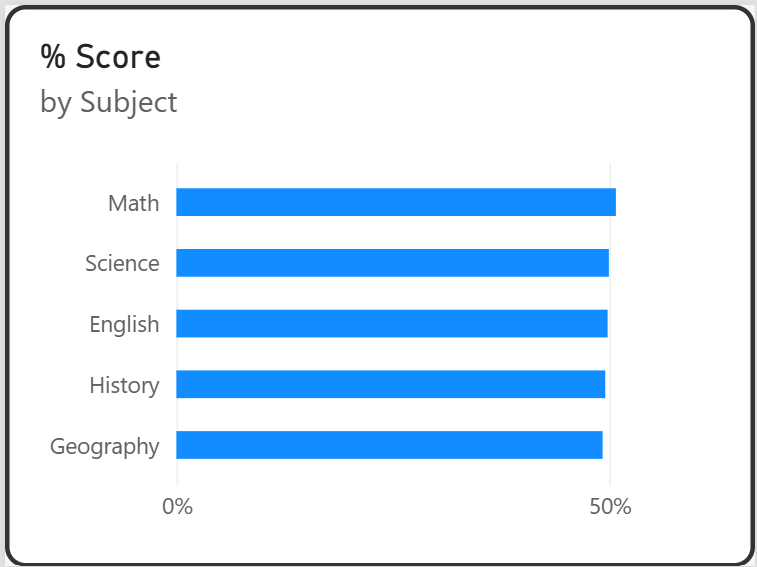

Layout of this report page (visuals, bound fields, positions):
{"tool":"powerbi","page":{"name":"Tooltip","canvas":[400,300],"ordinal":2},"visuals":[{"type":"clusteredBarChart","fields":{"Category":["Scores csv.Subject"],"Y":["Scores csv.% Score"]},"box":[0,0,400,300],"z":0}]}

Visuals, with their boxes in screenshot pixels (x1, y1, x2, y2), scaled from the page's 400x300 canvas onto the 757x567 screenshot:
clusteredBarChart - Scores csv.Subject x Scores csv.% Score: box(0, 0, 756, 566)
